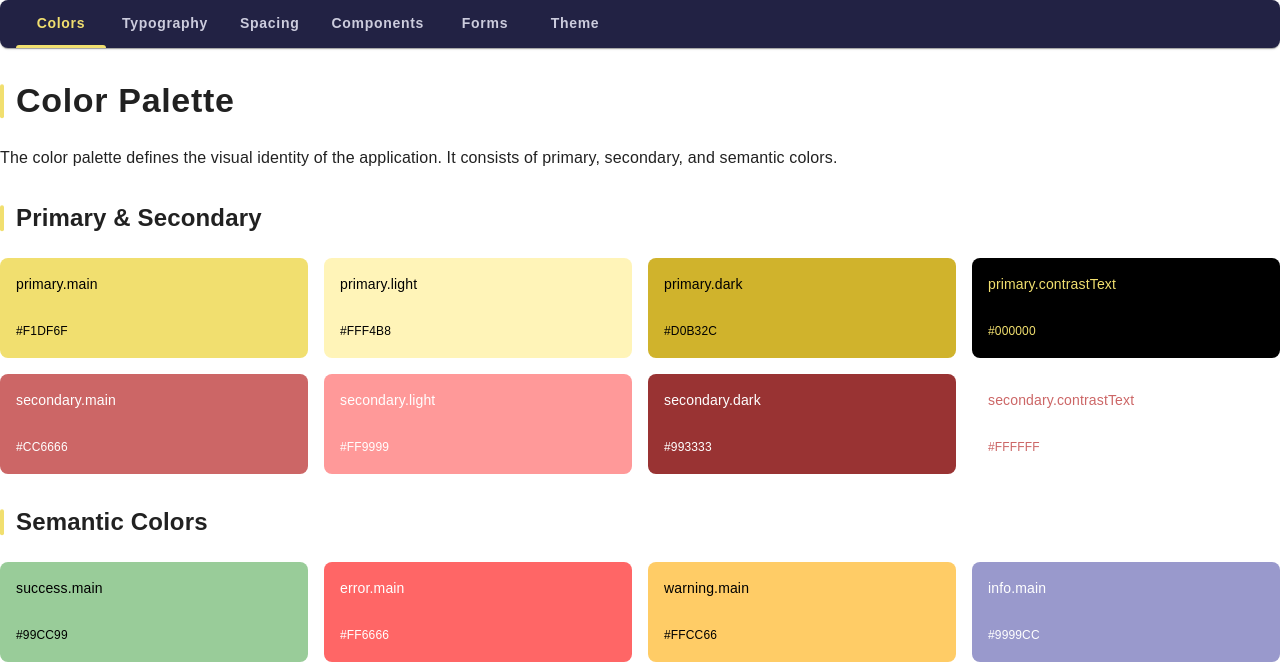
Scenario: DesignSystemVisualizer › allows switching between tabs
Switch to Typography tab
Click the tab "Typography" at (165, 24), box [106,0,224,48]
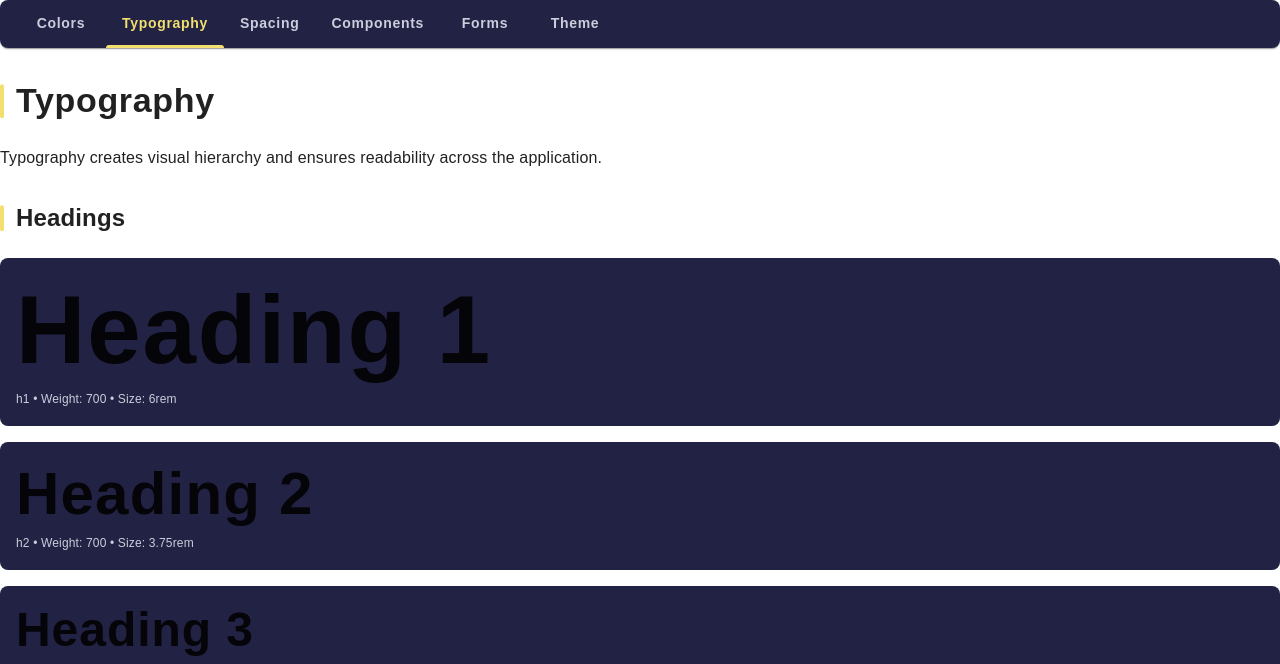
Check: the heading "Headings" is shown, box [16,204,125,231]
Switch to Spacing tab
Click the tab "Spacing" at (270, 24), box [224,0,316,48]
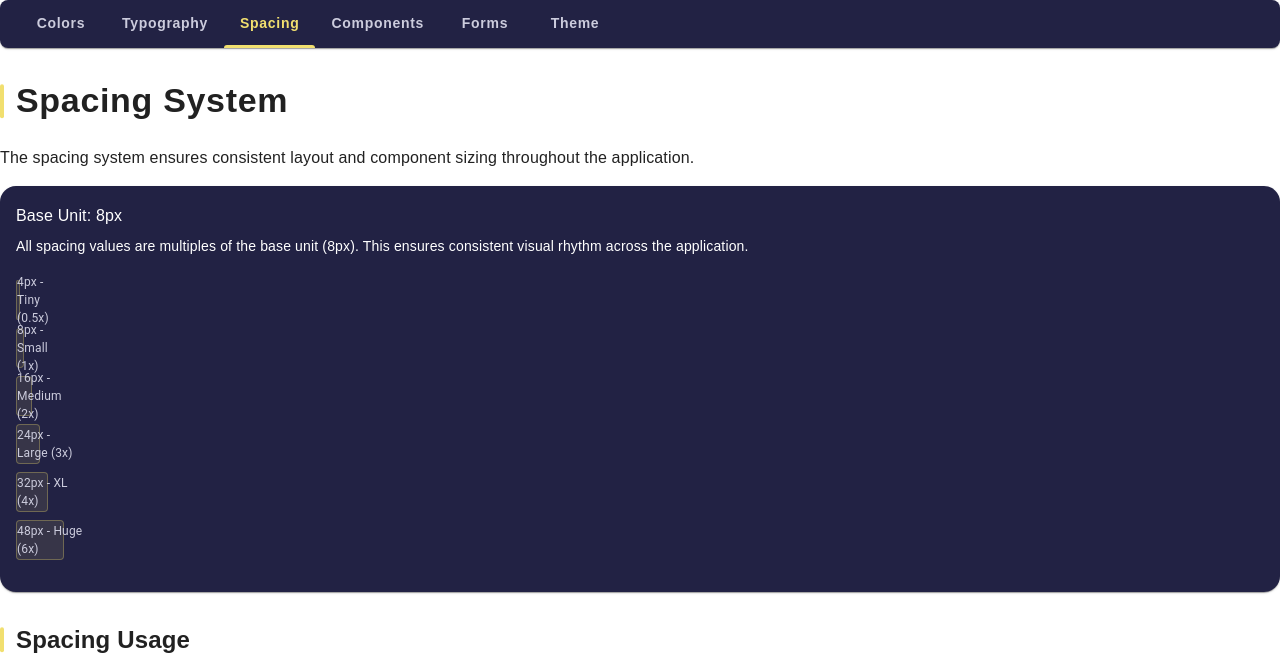
Check: the heading "Spacing System" is shown, box [16,81,288,119]
Switch to Components tab
Click the tab "Components" at (378, 24), box [315,0,440,48]
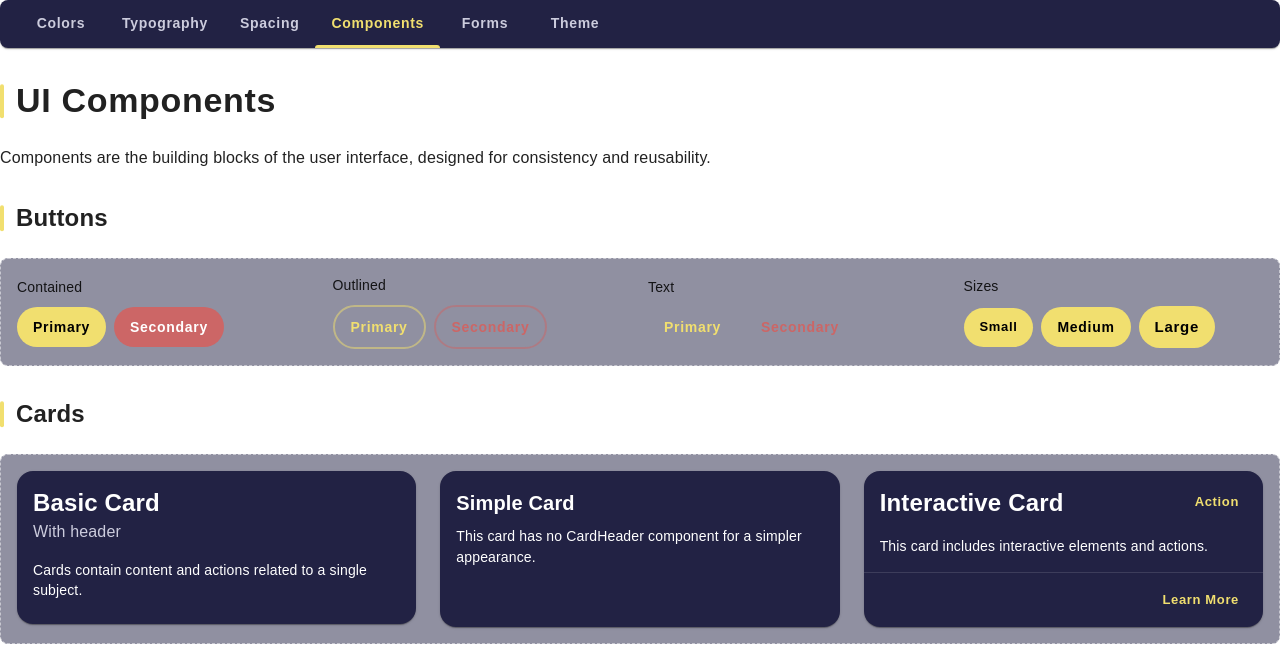
Check: the heading "UI Components" is shown, box [16,81,276,119]
Switch to Forms tab
Click the tab "Forms" at (485, 24), box [440,0,530,48]
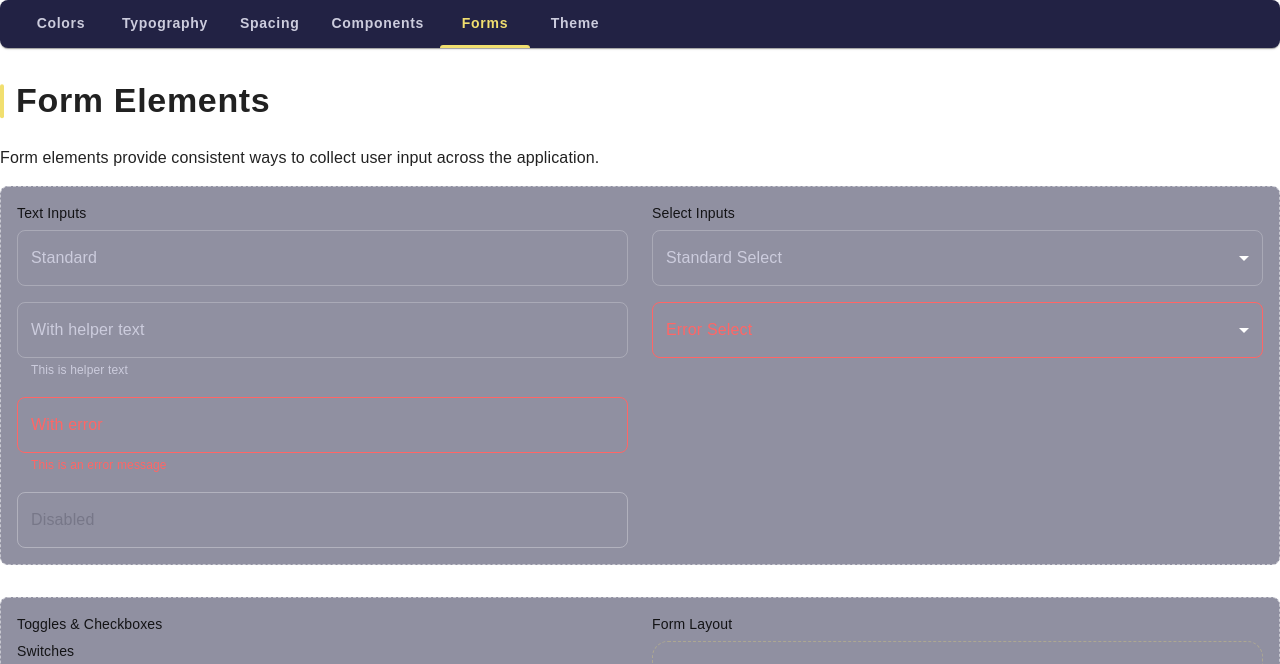
Check: the heading "Form Elements" is shown, box [16,81,270,119]
Switch to Theme tab
Click the tab "Theme" at (575, 24), box [530,0,620,48]
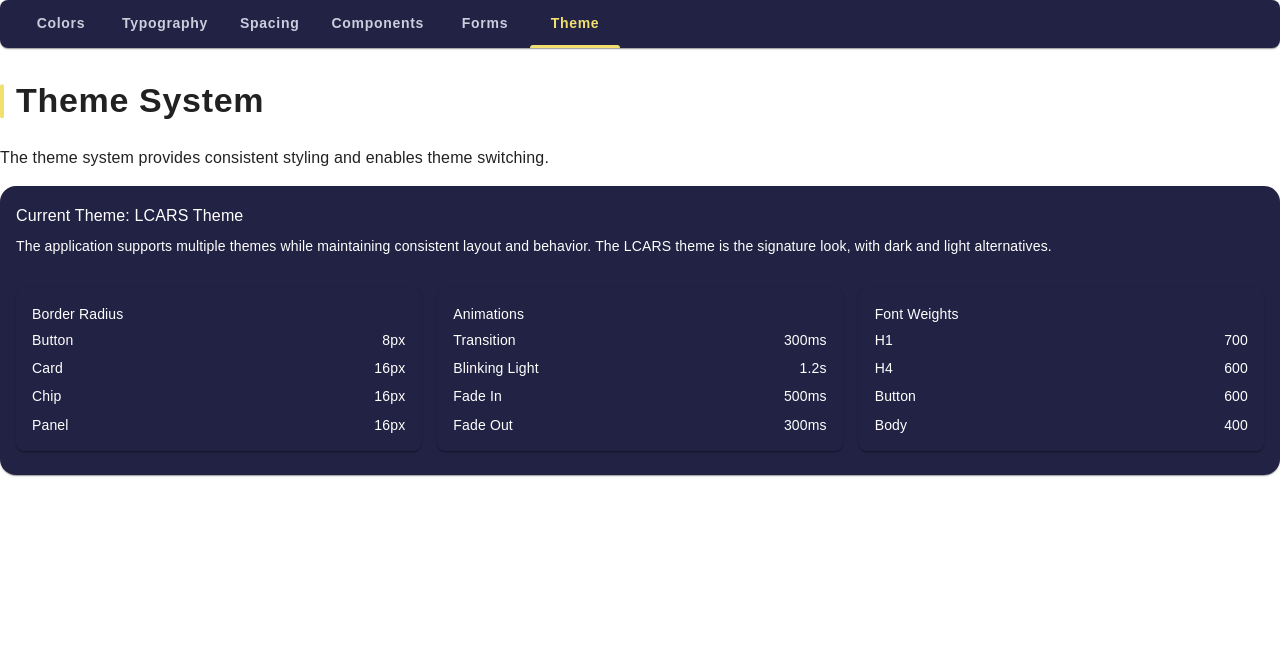
Check: the heading "Theme System" is shown, box [16,81,264,119]
